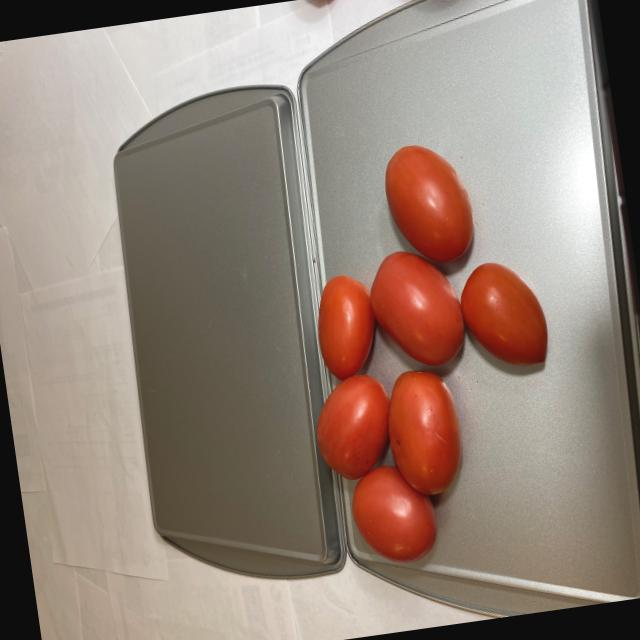tomato: (278, 130, 578, 578)
